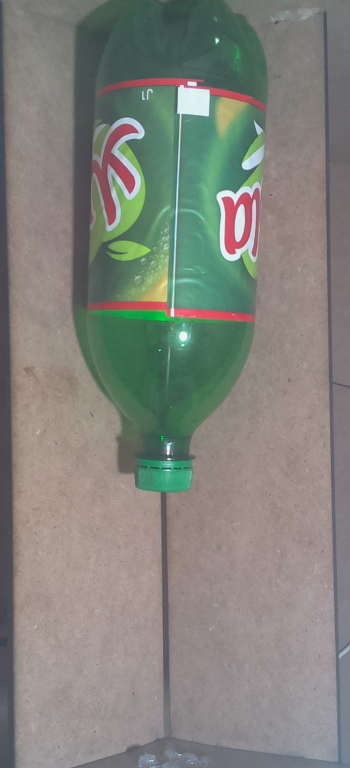Bouteille_1L: (78, 2, 274, 502)
